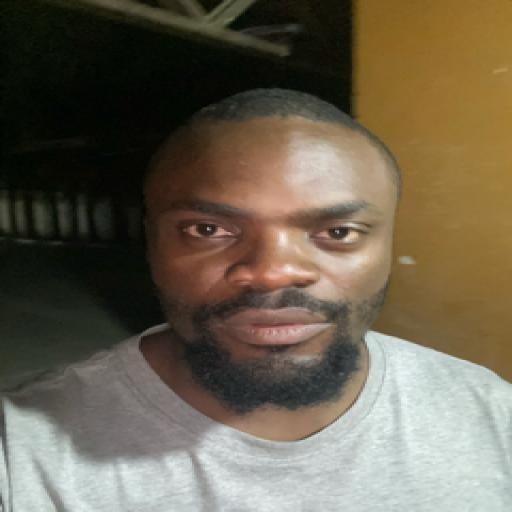JEANLUC: (136, 79, 402, 421)
